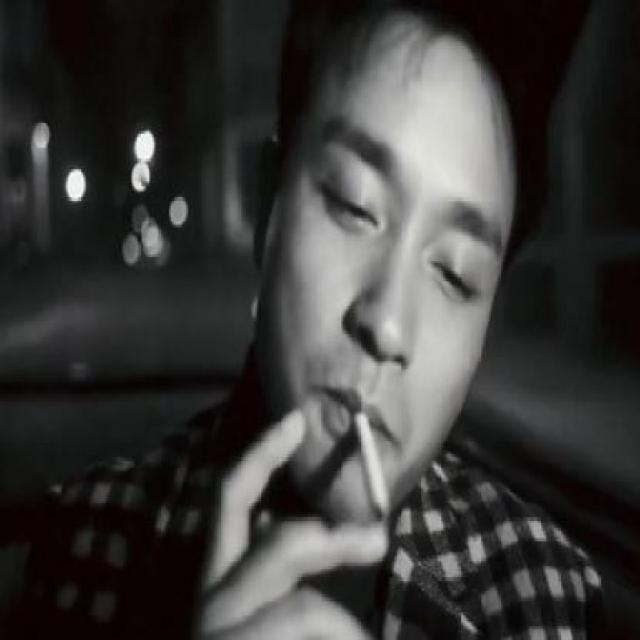cigarette: (343, 389, 400, 537)
